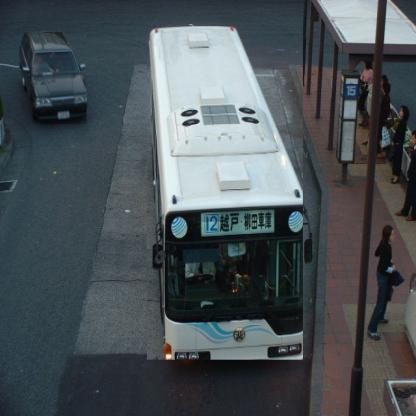bus: (148, 26, 304, 362)
car: (20, 33, 88, 126)
